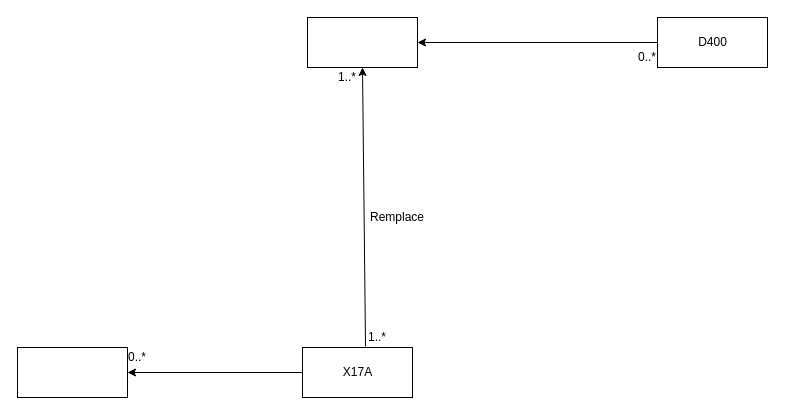
This 785x415 diagram has some shape labels left out. The centre of each missing label's shape, as x and y in pixels:
A59A: (362,42)
S27C: (72,372)
